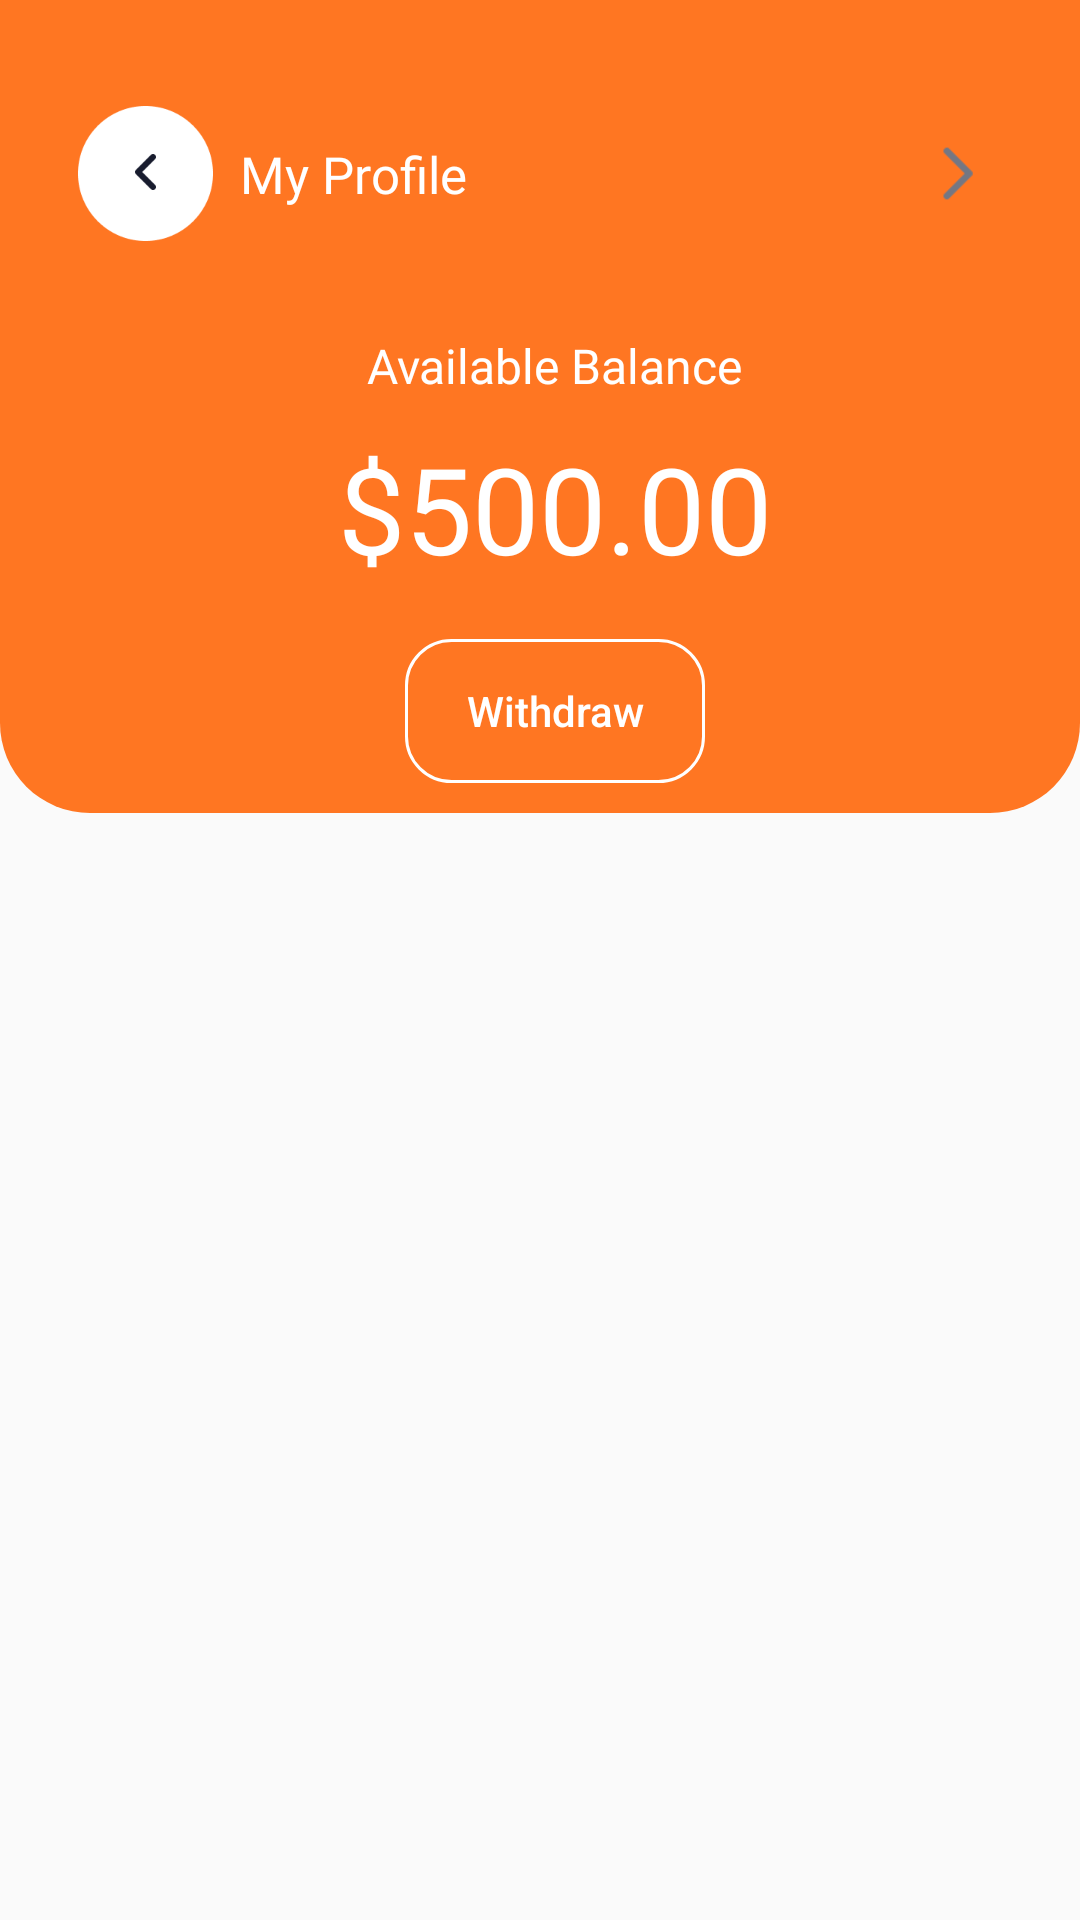

Icon click points for this 1080 × 1920 phone screenshot, format (x=x, y=y):
back: (x=145, y=173)
right: (x=958, y=173)
